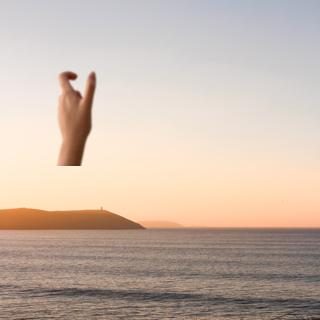Irritated: (49, 67, 97, 161)
